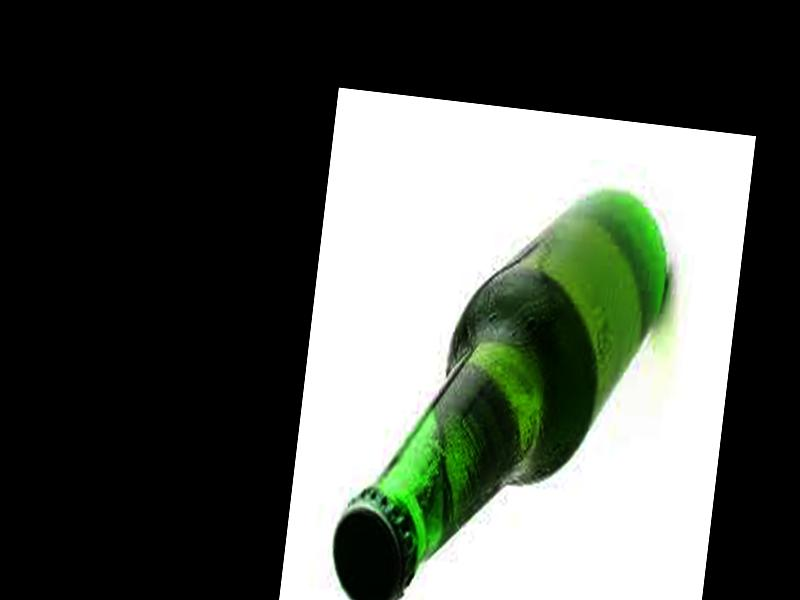Beer: (327, 160, 678, 600)
